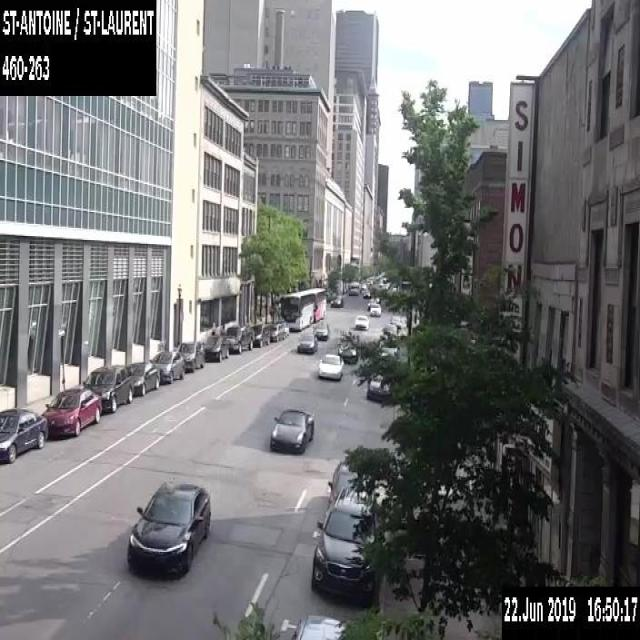bus: (280, 291, 313, 331), (300, 287, 326, 321)
vehicle: (127, 478, 211, 578), (310, 484, 378, 595), (41, 388, 101, 436), (0, 407, 47, 461), (326, 460, 378, 508), (82, 364, 133, 411), (269, 406, 313, 454), (290, 613, 345, 639), (149, 350, 185, 382), (127, 361, 159, 395), (176, 340, 204, 371), (225, 323, 254, 352), (202, 335, 228, 361), (366, 372, 391, 399), (318, 352, 343, 378), (337, 343, 358, 363), (252, 322, 269, 346), (296, 333, 317, 352), (379, 340, 397, 359), (312, 320, 329, 340), (268, 322, 283, 341), (380, 323, 398, 338), (275, 319, 289, 337), (389, 314, 405, 328), (354, 314, 369, 328), (330, 294, 343, 307), (348, 280, 360, 294), (370, 302, 380, 316), (367, 297, 376, 307), (362, 289, 370, 297), (374, 296, 380, 302)
